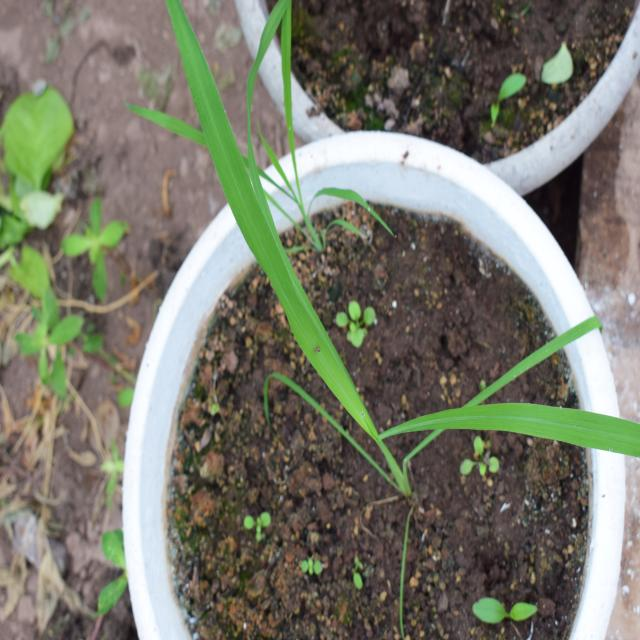barnyard_grass: (183, 26, 632, 494)
